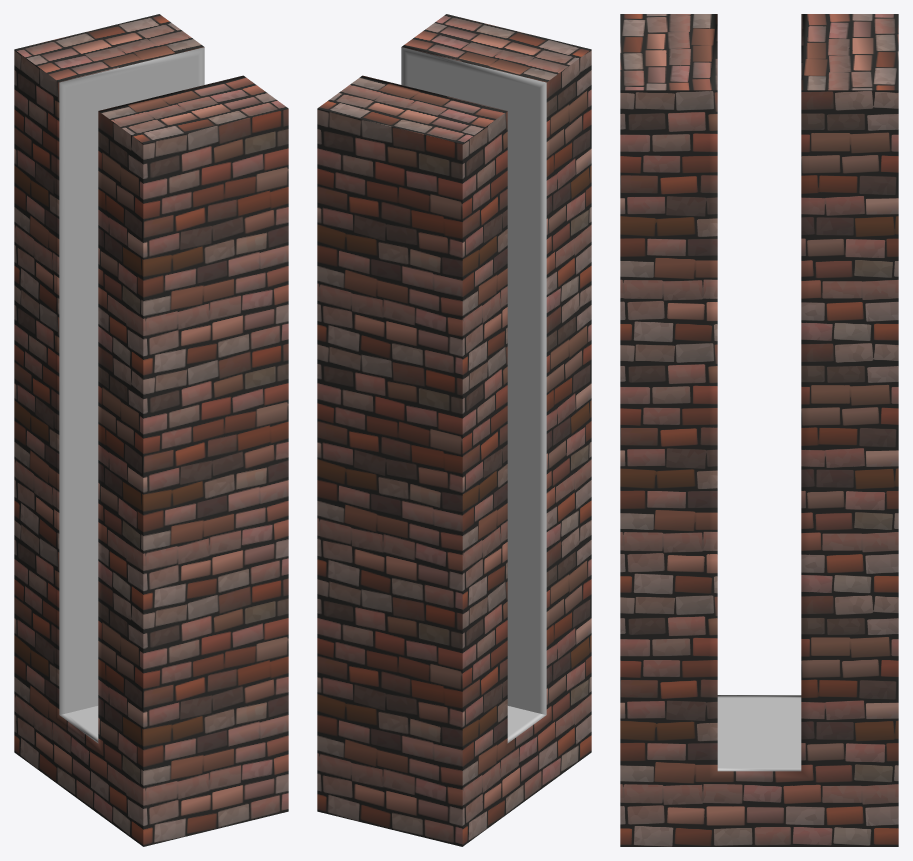
File: SM_Wall_03.fbx
The picture shows the model from 3 angles, left to right: view 1: azimuth 30°, elevation 25°; view 2: azimuth 150°, elevation 25°; view 3: azimuth 270°, elevation 25°; orthographic projection. The views are drawn at different scales.
Parts seen in each view (by area): view 1: Wall_ClawGap_03; view 2: Wall_ClawGap_03; view 3: Wall_ClawGap_03.
Boxes of the visible parts, left/top/right/bottom form: Wall_ClawGap_03: left=14, top=14, right=288, bottom=846; Wall_ClawGap_03: left=317, top=14, right=591, bottom=846; Wall_ClawGap_03: left=620, top=14, right=898, bottom=846.
Bounding box in the file's own units: 1.95 × 9 × 3.
